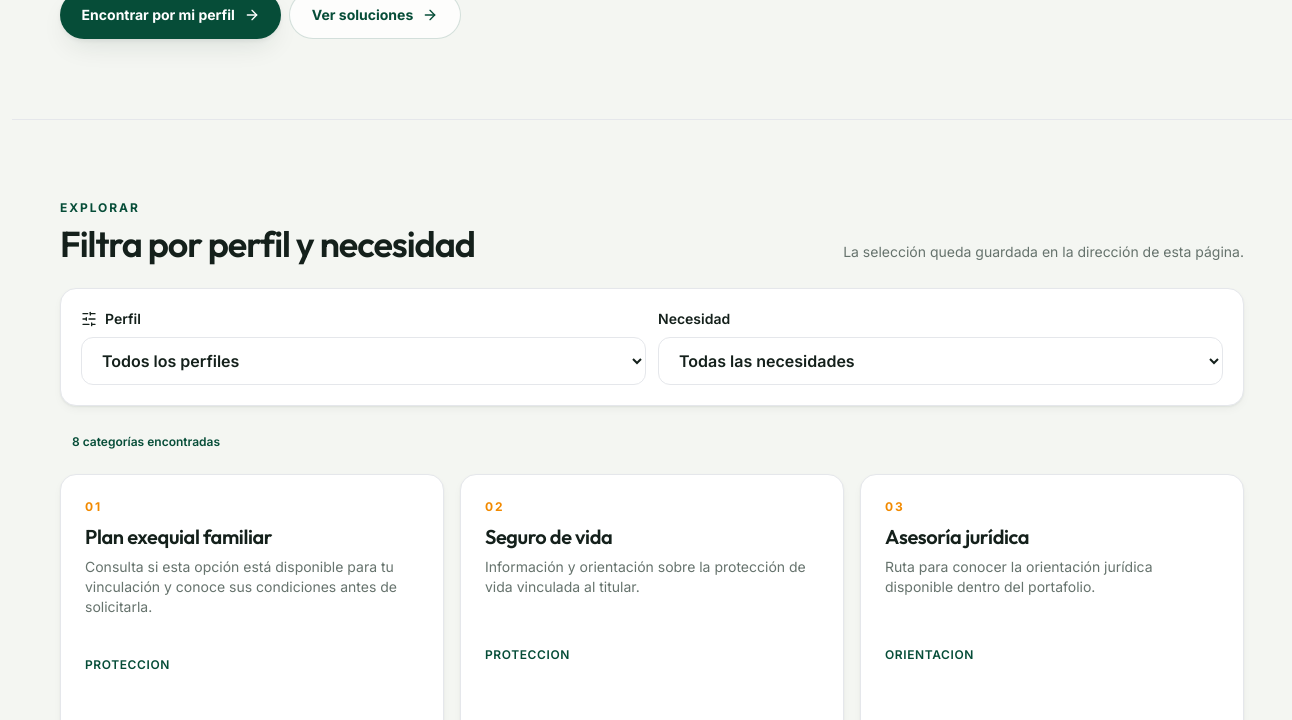
Test: BenefitsPage › keeps filters keyboard-native, touch-sized and persisted in the URL
(page scrolled)
Step 1. Select "Afiliados" in the dropdown labelled "Perfil" → [364, 361], box x1=81 y1=337 x2=646 y2=385
(page scrolled)
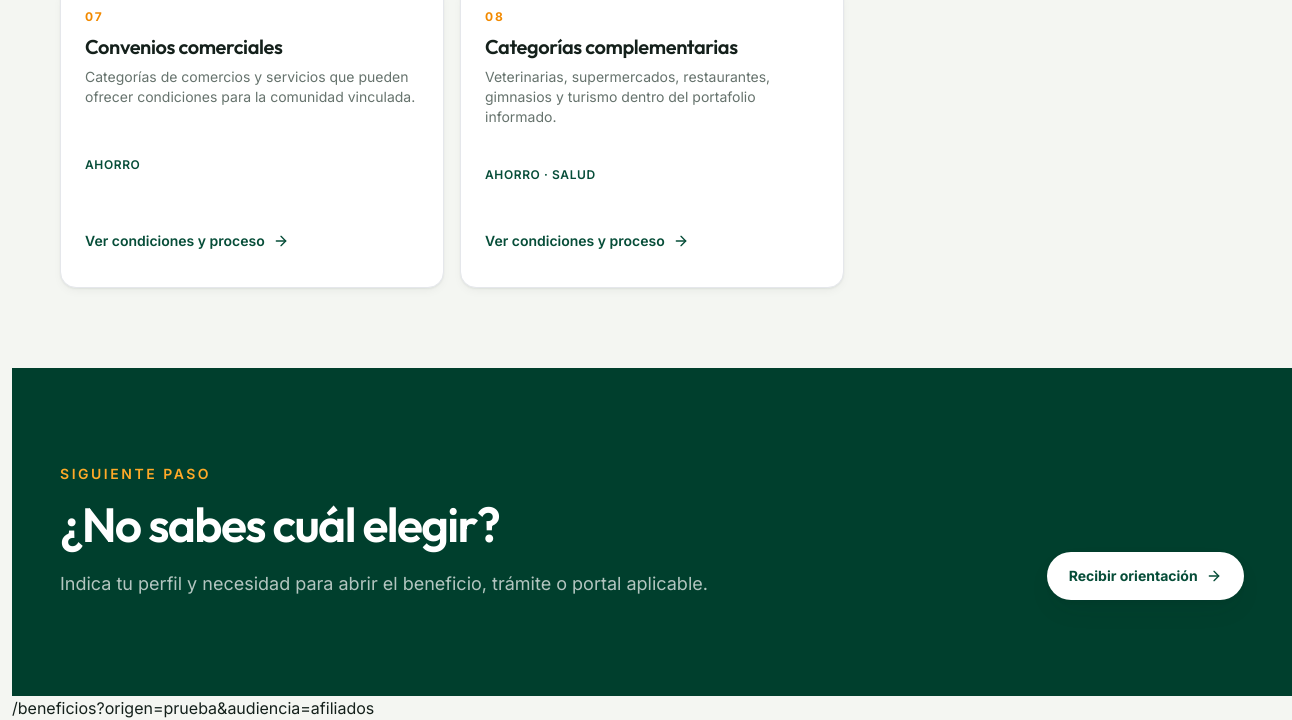
Now the text named "Ubicación actual" reads "/beneficios?origen=prueba&audiencia=afiliados", box x1=12 y1=698 x2=374 y2=718
